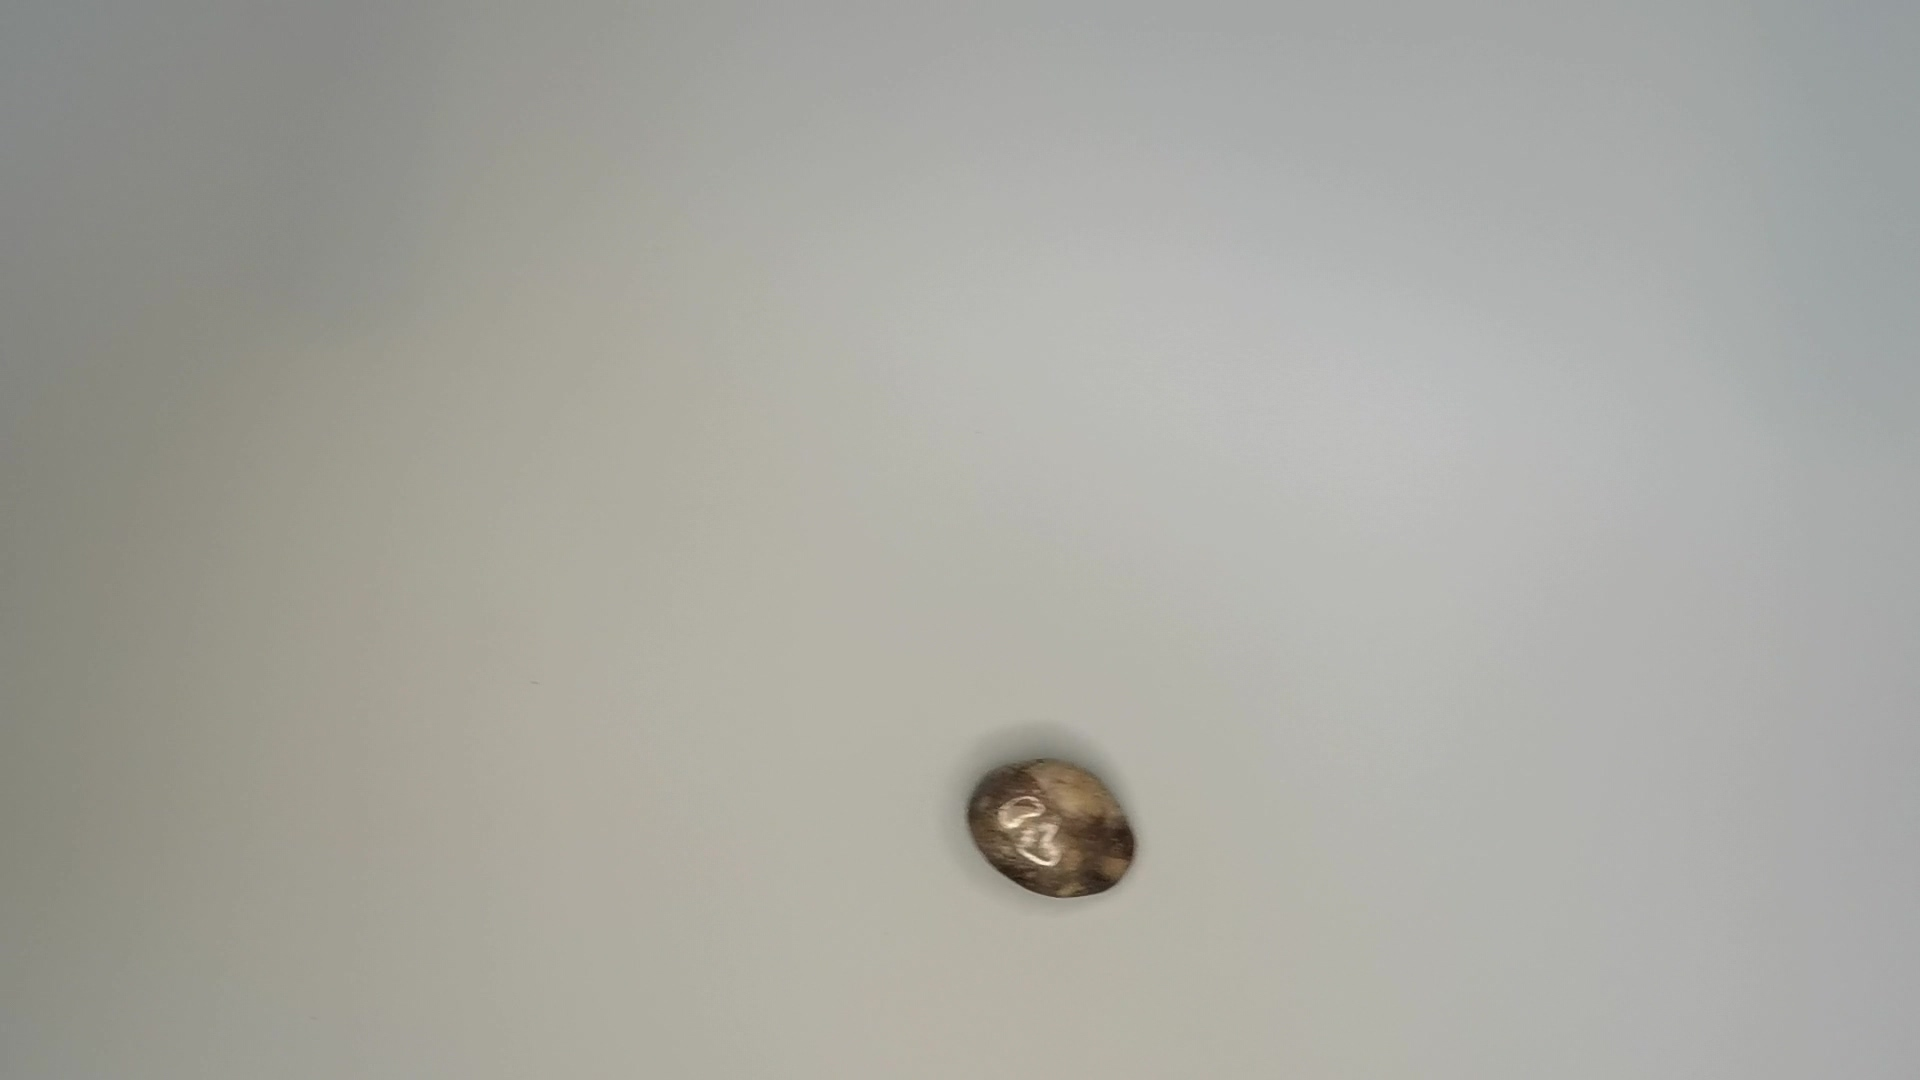ceramic: (969, 754, 1135, 902)
